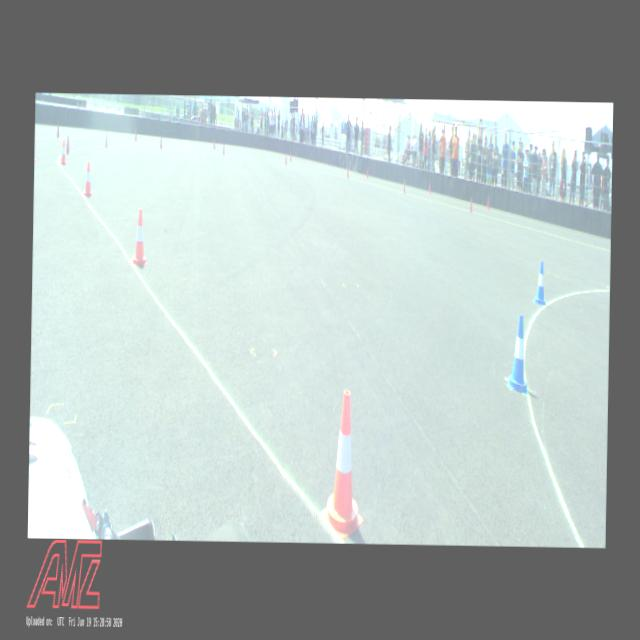blue_cone: (508, 314, 528, 394), (532, 260, 546, 306)
orange_cone: (321, 390, 365, 540), (131, 208, 148, 265), (84, 162, 92, 196), (60, 138, 66, 164)
unknown_cone: (66, 134, 70, 154), (56, 122, 60, 138), (104, 132, 108, 148), (469, 196, 472, 212), (428, 182, 431, 195), (486, 197, 489, 210), (222, 143, 225, 155), (134, 128, 136, 142), (160, 134, 162, 148), (213, 138, 215, 150), (285, 153, 287, 165), (346, 166, 348, 178), (403, 180, 405, 192), (290, 151, 292, 162), (366, 168, 368, 178)
